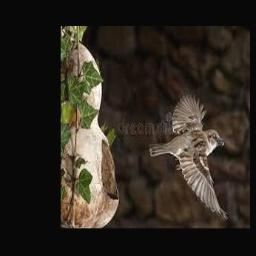Sparrow: (149, 93, 229, 220)
